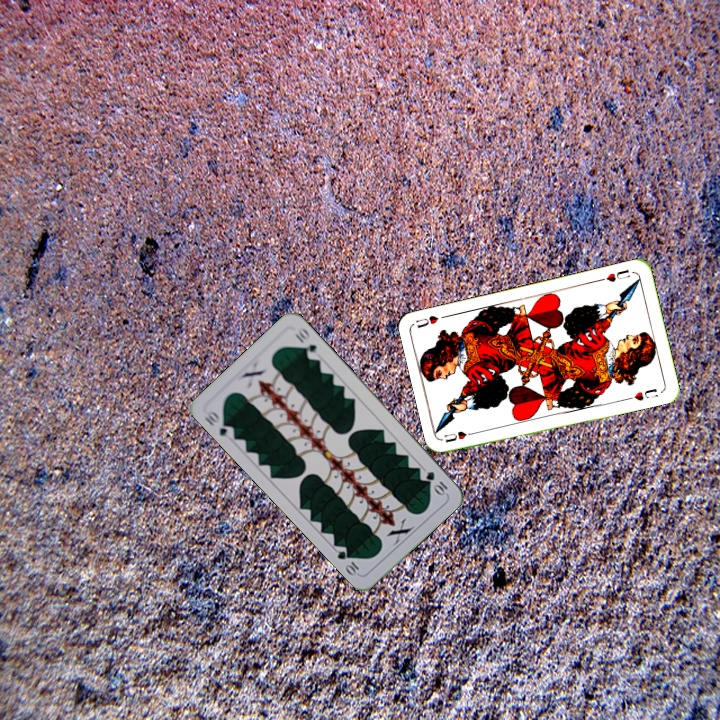G10: (200, 406, 237, 439), (422, 467, 450, 498)
HU: (596, 265, 632, 285), (440, 427, 480, 445)
